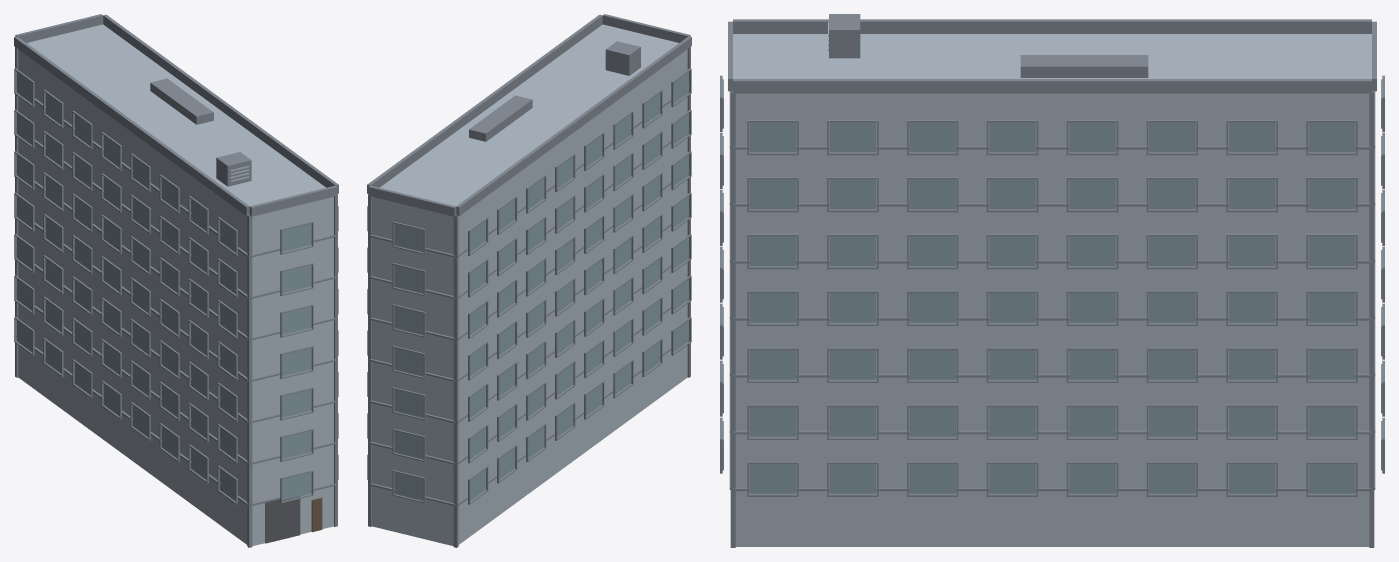
File: lot_1x4.glb
3 views of the same model, side by side, from view 1: azimuth 30°, elevation 25°; view 2: azimuth 150°, elevation 25°; view 3: azimuth 270°, elevation 25° (orthographic). The views are drawn at different scales.
Visible parts, largest first — view 1: lot_1x4; view 2: lot_1x4; view 3: lot_1x4.
Boxes of the visible parts, <box> form: lot_1x4: <box>14,14,338,547</box>; lot_1x4: <box>367,14,691,547</box>; lot_1x4: <box>720,14,1384,547</box>.
Bounding box in the file's own units: 7.74 × 25.5 × 31.74.
